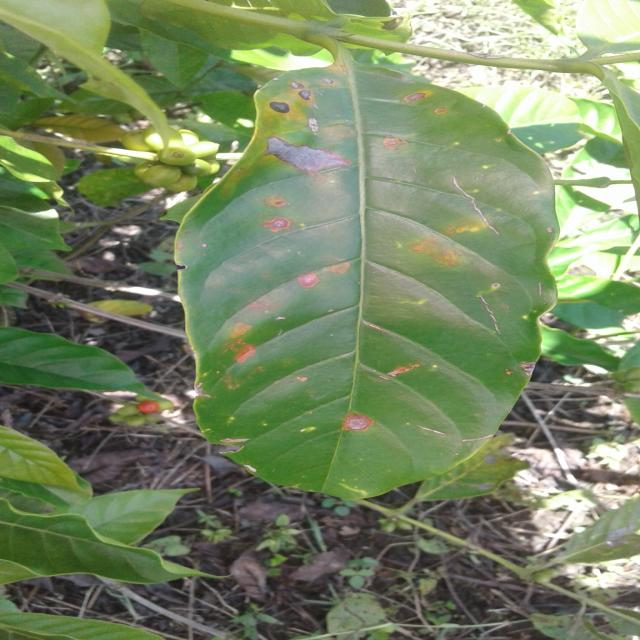Enfermedad-Roya: (174, 48, 564, 505)
